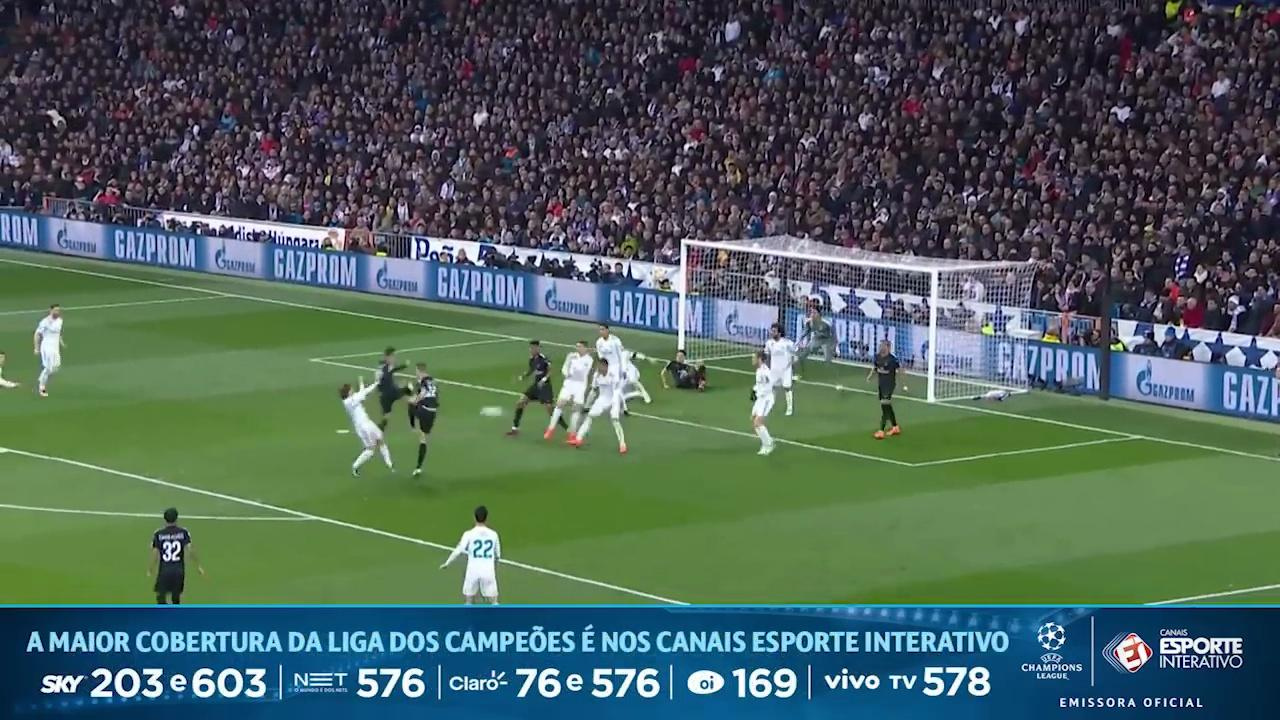football: (480, 406, 503, 416)
player: (441, 506, 500, 604), (569, 359, 626, 453), (148, 508, 203, 604), (340, 379, 393, 475), (596, 323, 650, 413), (544, 341, 594, 438), (506, 340, 553, 435), (867, 341, 900, 438), (410, 363, 438, 476), (764, 323, 797, 415), (34, 304, 63, 396), (376, 347, 407, 430), (797, 306, 835, 370), (751, 351, 774, 454), (660, 349, 705, 390), (0, 351, 18, 388)
